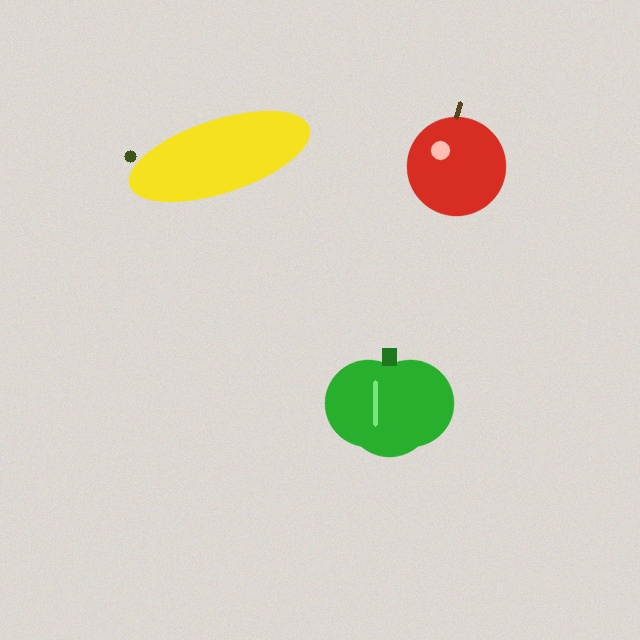Fresh apple: (407, 103, 505, 215)
Fresh banana: (121, 111, 317, 201)
Fresh bell pepper: (325, 348, 453, 456)
